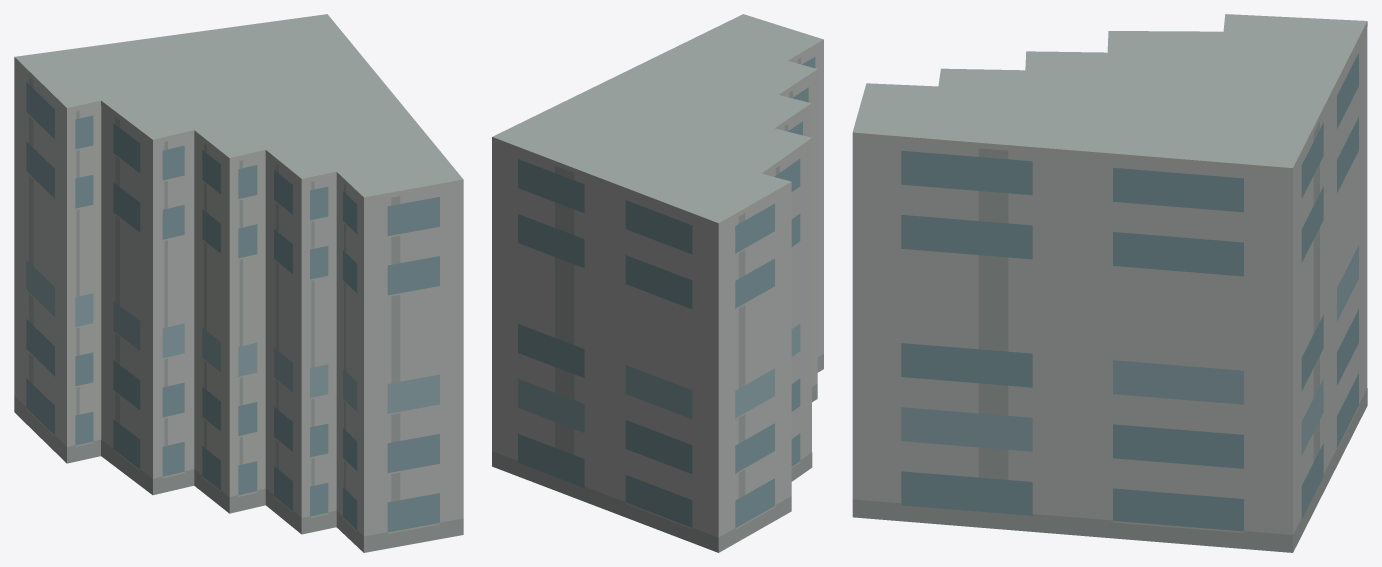
The model's file is survey-upis-32962230.glb.
3 views of the same model, side by side, from view 1: azimuth 30°, elevation 25°; view 2: azimuth 150°, elevation 25°; view 3: azimuth 270°, elevation 25° (orthographic). The views are drawn at different scales.
Visible parts, largest first — view 1: survey-upis-32962230.tmp; view 2: survey-upis-32962230.tmp; view 3: survey-upis-32962230.tmp.
Boxes of the visible parts, left/top/right/bottom form: survey-upis-32962230.tmp: left=14, top=14, right=463, bottom=552; survey-upis-32962230.tmp: left=492, top=14, right=823, bottom=552; survey-upis-32962230.tmp: left=852, top=14, right=1367, bottom=552.
Bounding box in the file's own units: 14.44 × 16.8 × 20.39.
